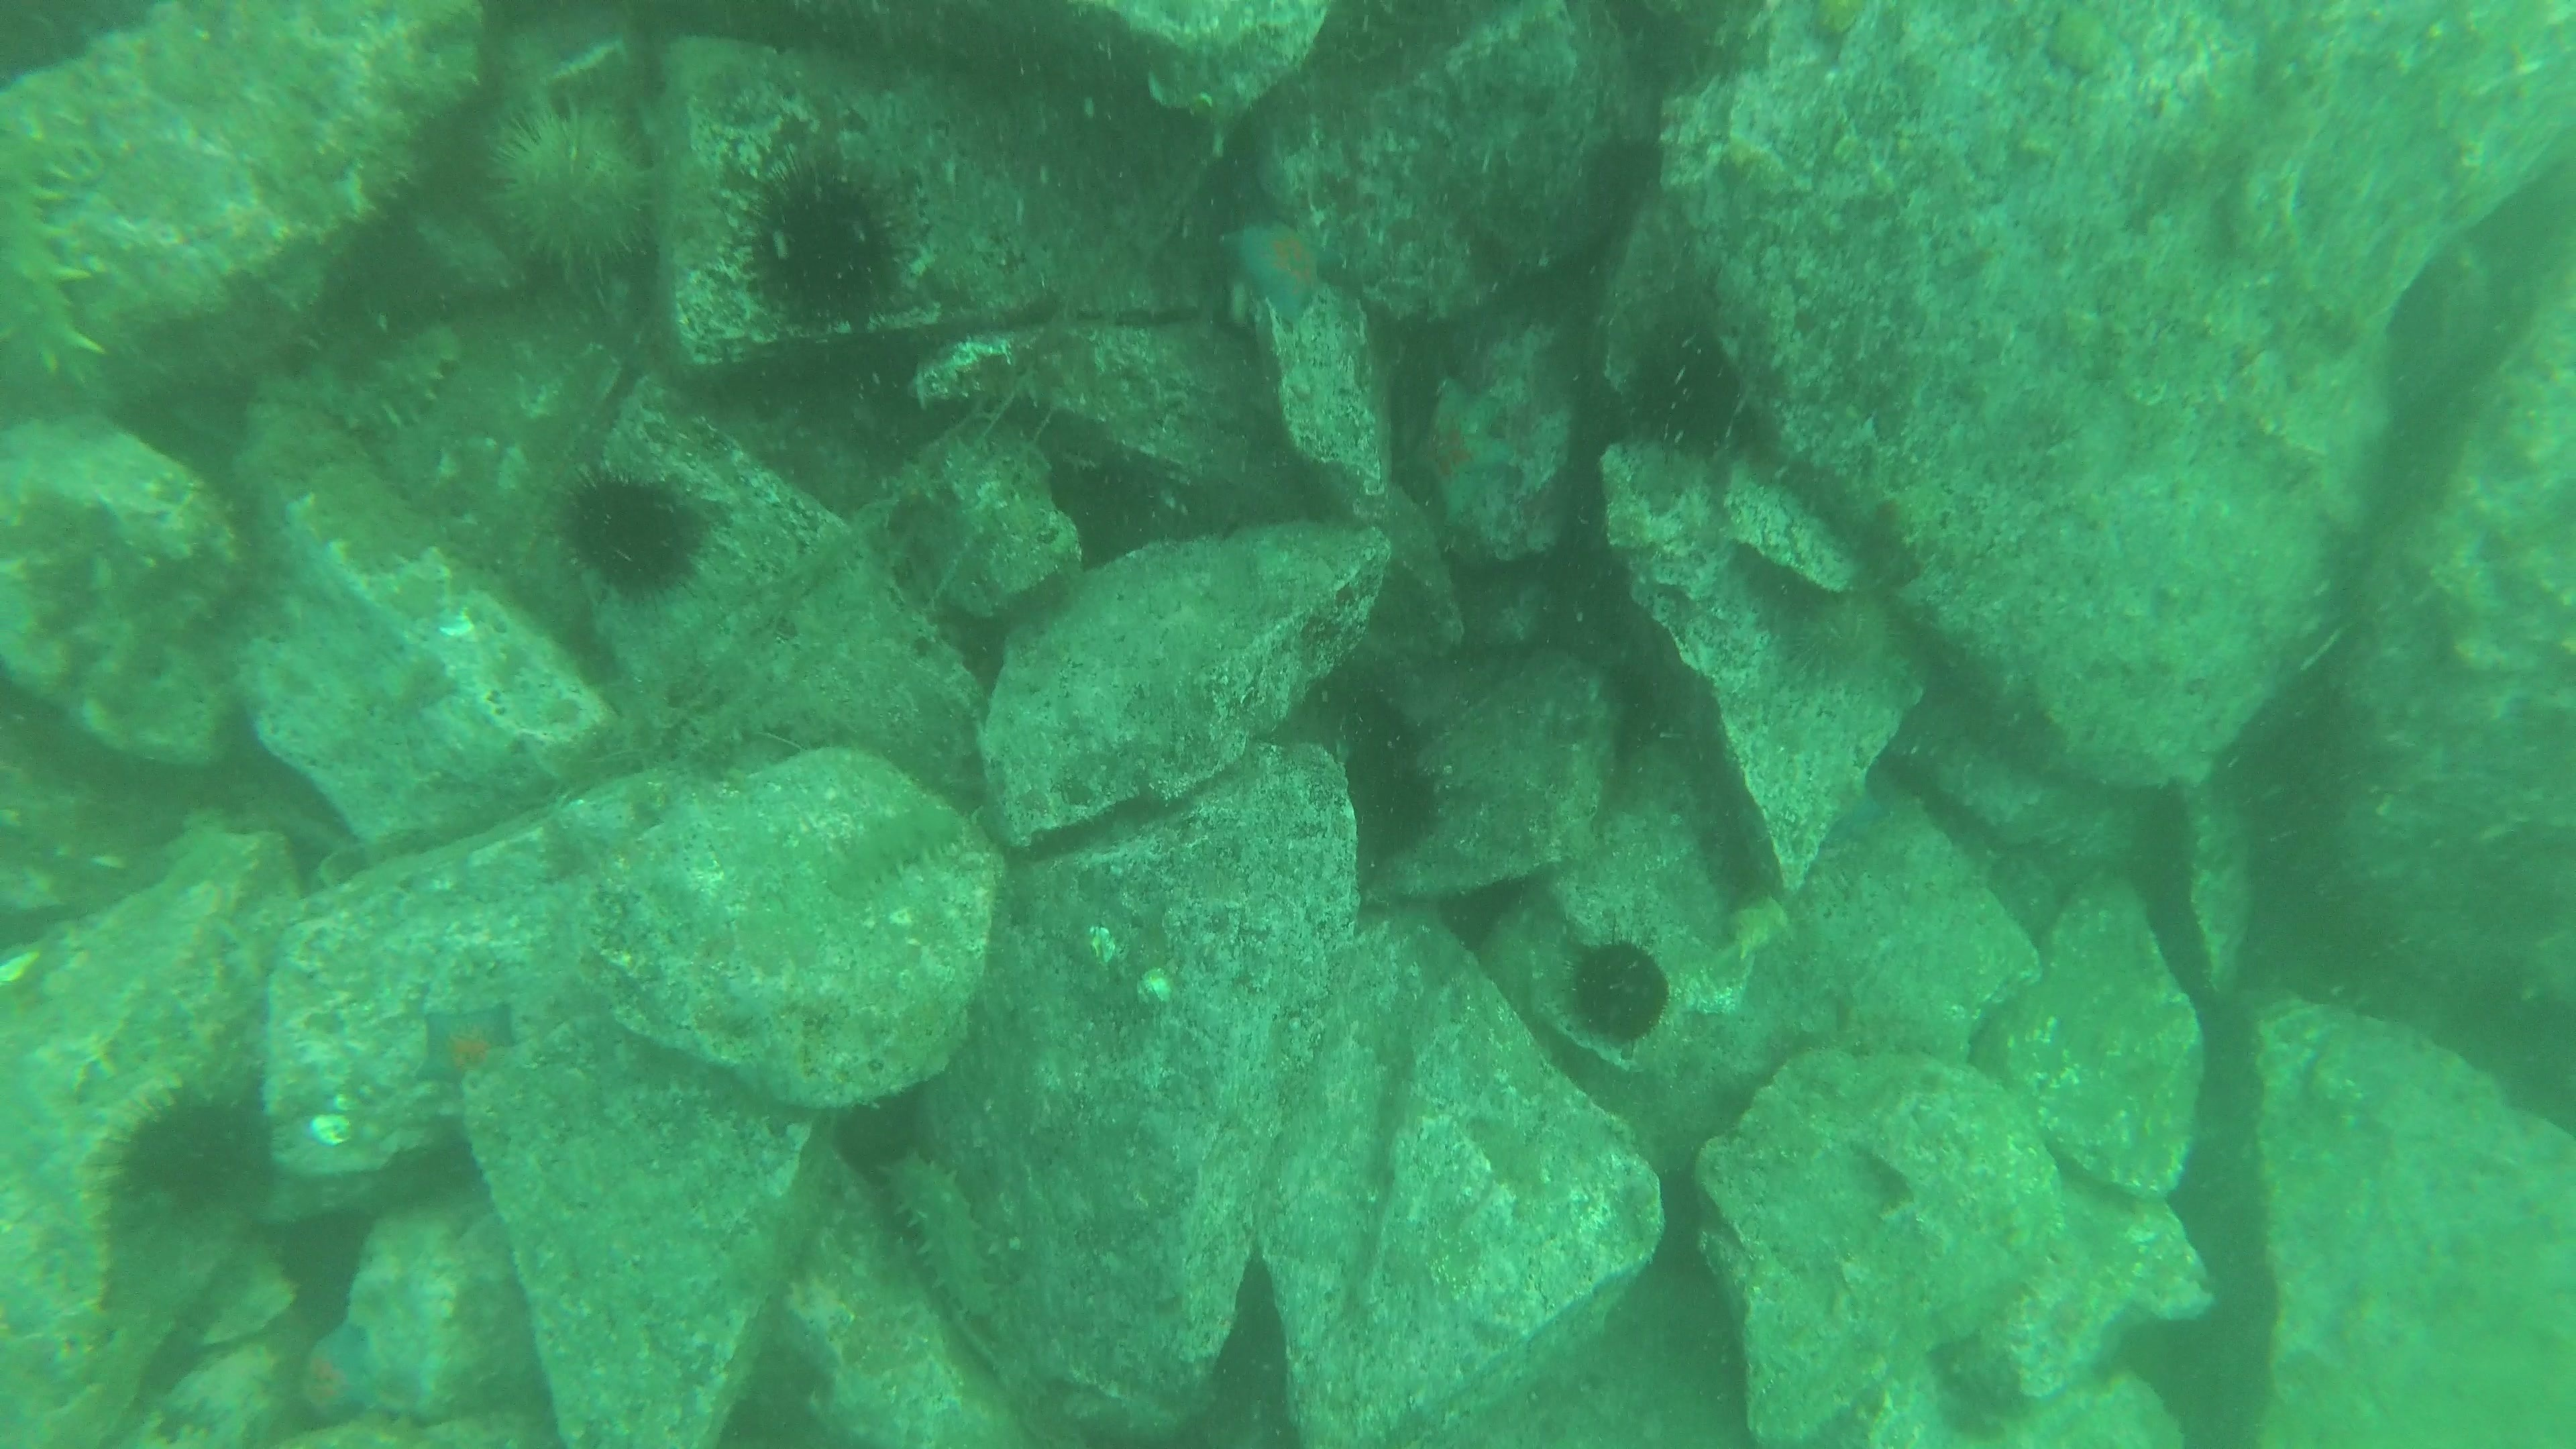echinus: (478, 97, 663, 281), (731, 150, 918, 333), (103, 1079, 280, 1226), (552, 464, 713, 602), (1621, 318, 1748, 456), (1764, 582, 1898, 692), (1557, 932, 1677, 1051)
holothurian: (0, 108, 111, 414), (867, 1143, 1019, 1362), (743, 1267, 869, 1449), (304, 318, 471, 444), (814, 803, 966, 902)
starfish: (1403, 368, 1530, 527), (1215, 205, 1348, 331), (274, 1313, 403, 1435), (407, 989, 525, 1097)
